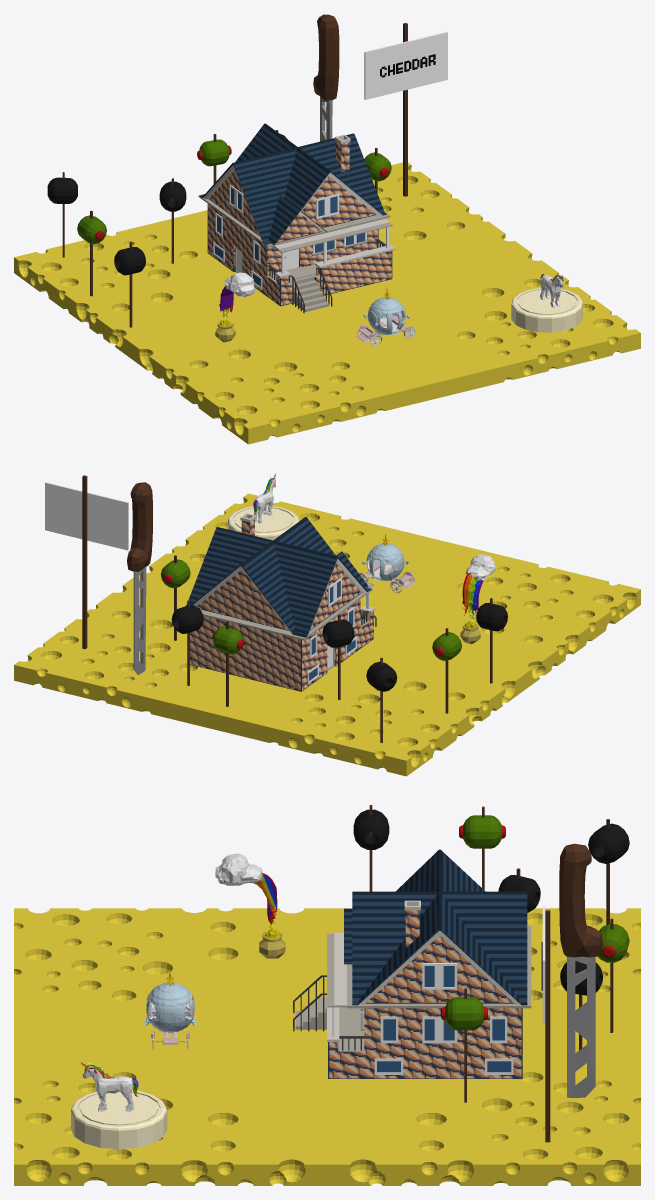
3 renders of one model, top to bottom at view 1: azimuth 30°, elevation 25°; view 2: azimuth 150°, elevation 25°; view 3: azimuth 270°, elevation 25°, orthographic. The views are drawn at different scales.
Visible parts, largest first — view 1: Cube.022, Cube.430, Cube.023, Cylinder.016, Cube.024, VEHICLES_FANTASY_CARRIAGE, OBJRANDOM_RAINBOW, Sphere.017, Sphere.016, Sphere.020, Sphere.018, Sphere.022 (+1 smaller); view 2: Cube.022, Cube.430, Cube.023, Cube.024, VEHICLES_FANTASY_CARRIAGE, OBJRANDOM_RAINBOW, Cylinder.016, Sphere.020, Sphere.017, Sphere.021, Sphere.018, Sphere.016 (+3 smaller); view 3: Cube.022, Cube.430, Cube.024, Cylinder.016, VEHICLES_FANTASY_CARRIAGE, OBJRANDOM_RAINBOW, Cube.023, Sphere.019, Sphere.016, Sphere.018, Sphere.017, ANIMAL_UNICORNIO (+3 smaller).
Boxes of the visible parts, x1,y1,x2,y2 form: Cube.022: (14, 162, 640, 444); Cube.430: (198, 123, 395, 313); Cube.023: (364, 23, 447, 196); Cylinder.016: (511, 287, 582, 332); Cube.024: (313, 14, 339, 141); VEHICLES_FANTASY_CARRIAGE: (356, 288, 415, 347); OBJRANDOM_RAINBOW: (215, 272, 255, 342); Sphere.017: (114, 242, 145, 327); Sphere.016: (47, 172, 77, 257); Sphere.020: (159, 178, 186, 263); Sphere.018: (77, 210, 106, 296); Sphere.022: (197, 134, 231, 183); Cube.022: (14, 493, 640, 776); Cube.430: (185, 513, 376, 691); Cube.023: (45, 475, 128, 649); Cube.024: (127, 482, 152, 674); VEHICLES_FANTASY_CARRIAGE: (359, 533, 415, 593); OBJRANDOM_RAINBOW: (460, 554, 495, 644); Cylinder.016: (228, 505, 298, 540); Sphere.020: (322, 614, 354, 699); Sphere.017: (476, 598, 507, 683); Sphere.021: (171, 600, 203, 685); Sphere.018: (432, 628, 461, 713); Sphere.016: (366, 657, 397, 742); Cube.022: (14, 908, 640, 1185); Cube.430: (293, 849, 531, 1078); Cube.024: (559, 843, 602, 1097); Cylinder.016: (71, 1090, 167, 1149); VEHICLES_FANTASY_CARRIAGE: (144, 970, 197, 1049); OBJRANDOM_RAINBOW: (215, 853, 285, 958); Cube.023: (541, 906, 550, 1142); Sphere.019: (441, 988, 487, 1102); Sphere.016: (588, 819, 629, 924); Sphere.018: (459, 806, 505, 889); Sphere.017: (353, 805, 389, 891); ANIMAL_UNICORNIO: (81, 1062, 138, 1111).
Size of the model in its own units: 3917 by 2108 by 4000.
Materials: 44 (4 with a texture image).
